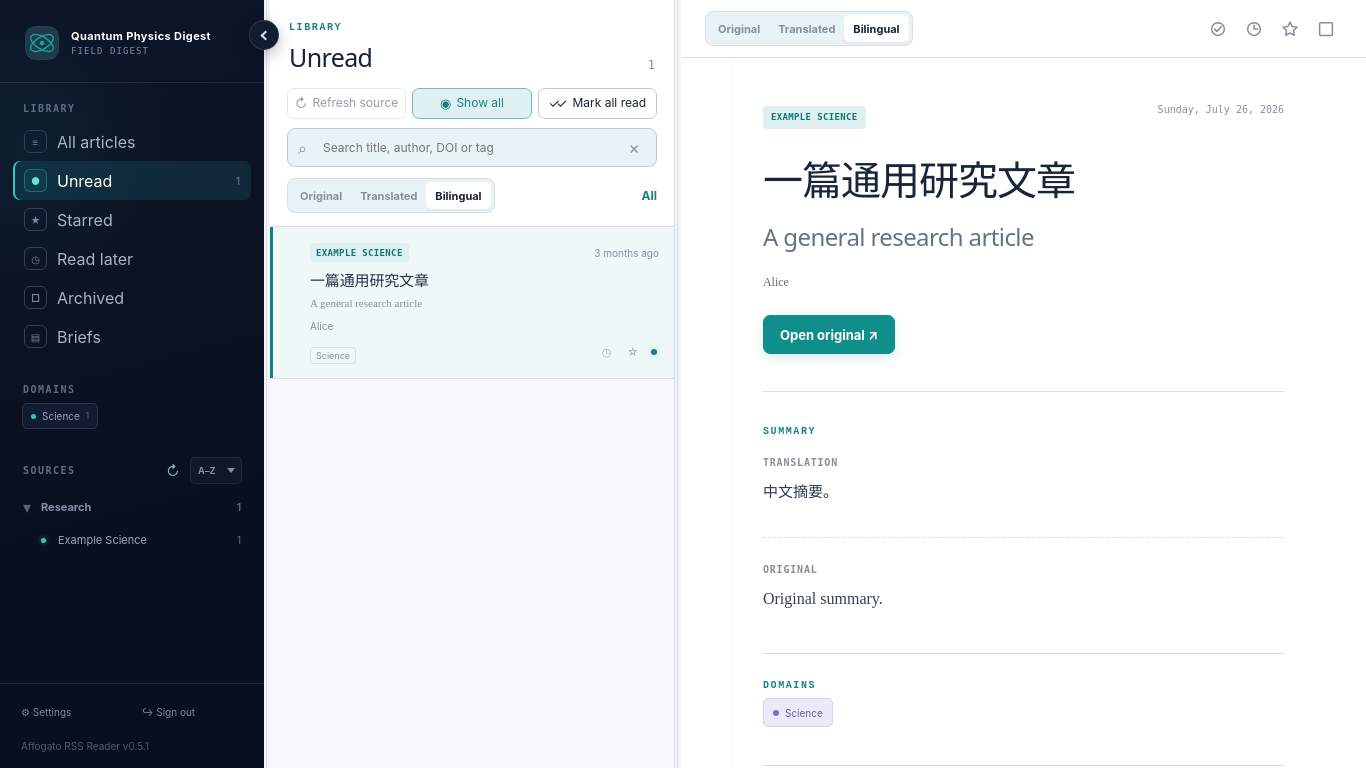
Affogato RSS Reader › refreshes the selected source, toggles unread mode, and marks the filtered timeline read
Expected: the button "↻ Refresh source" is disabled, [287,88,406,119]
Click the button "Example Science 1". click: (132, 540)
box: [13,523,251,557]
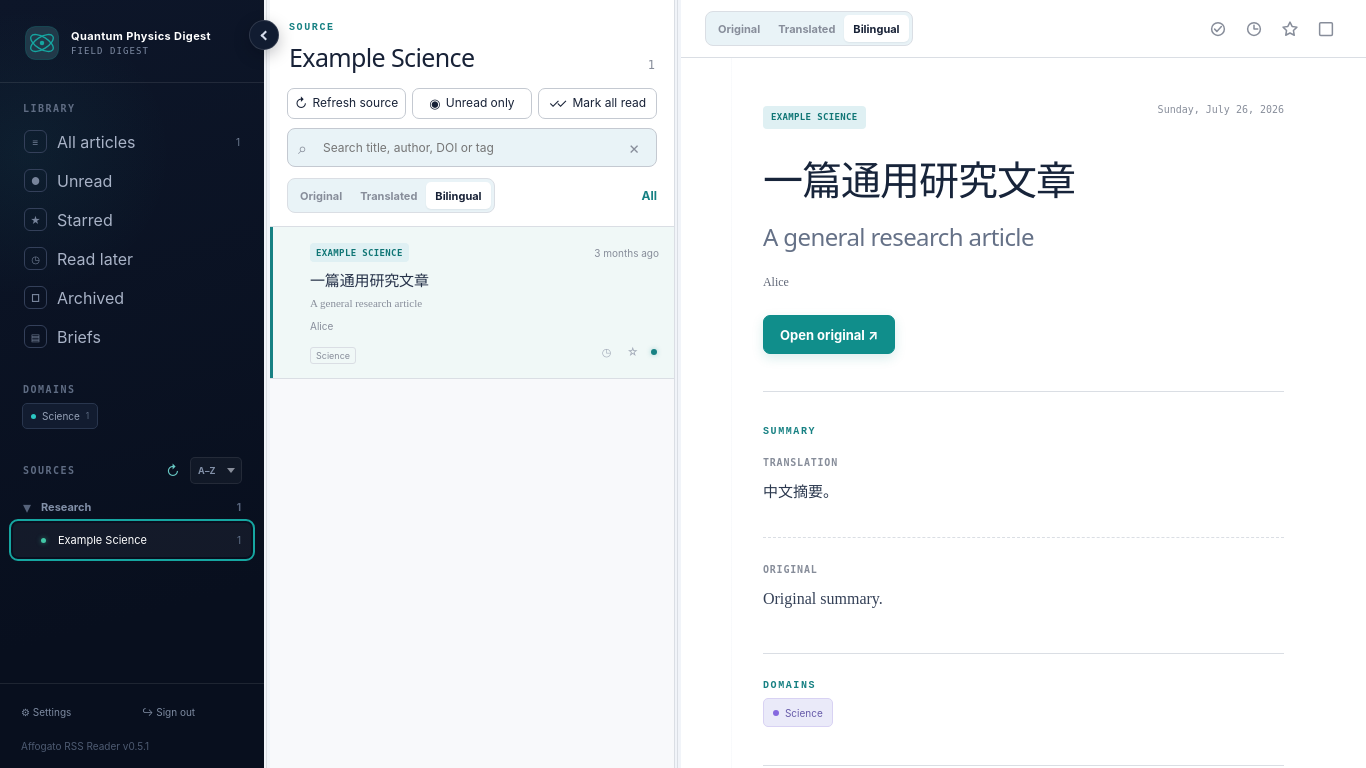
Now the button "↻ Refresh source" is enabled
Click the button "↻ Refresh source". click: (347, 104)
box: [287,88,406,119]
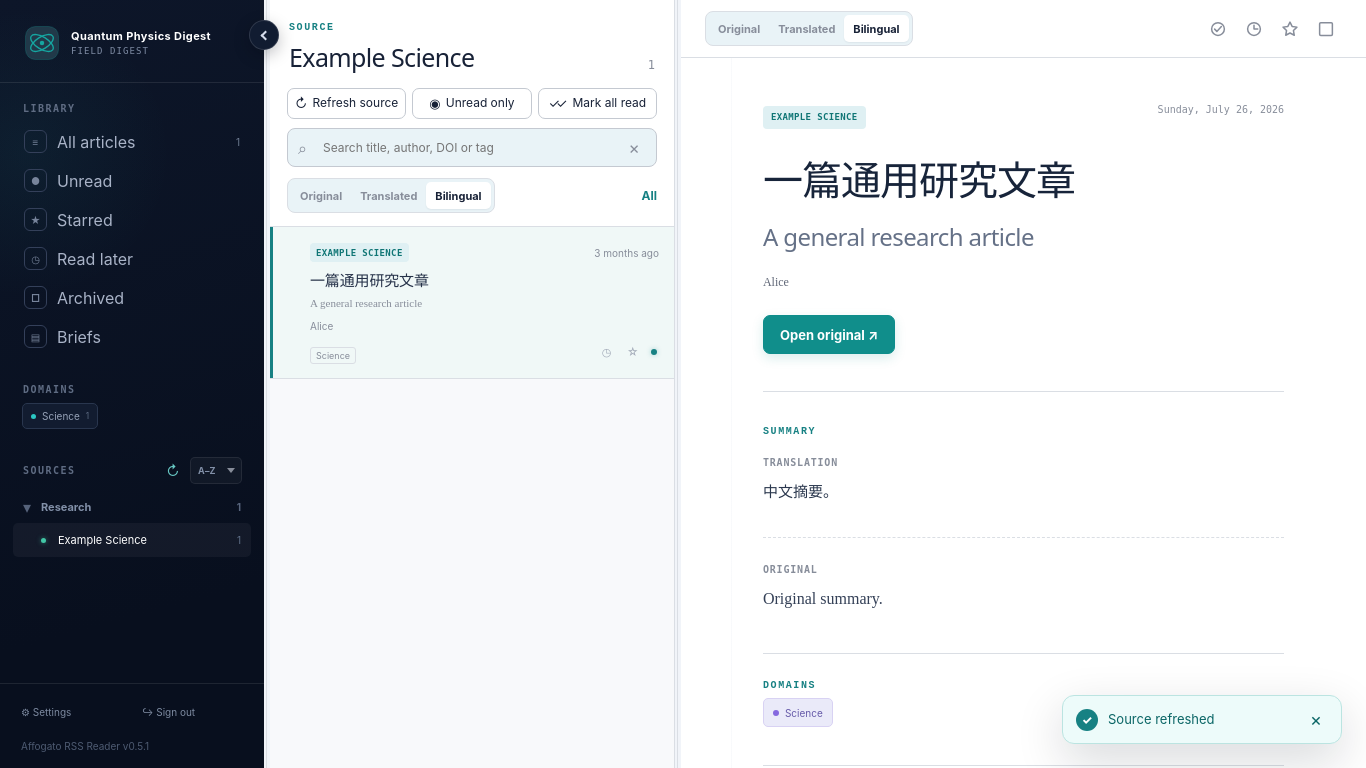
Click the button "◉ Unread only". click: (472, 104)
box: [412,88,532,119]
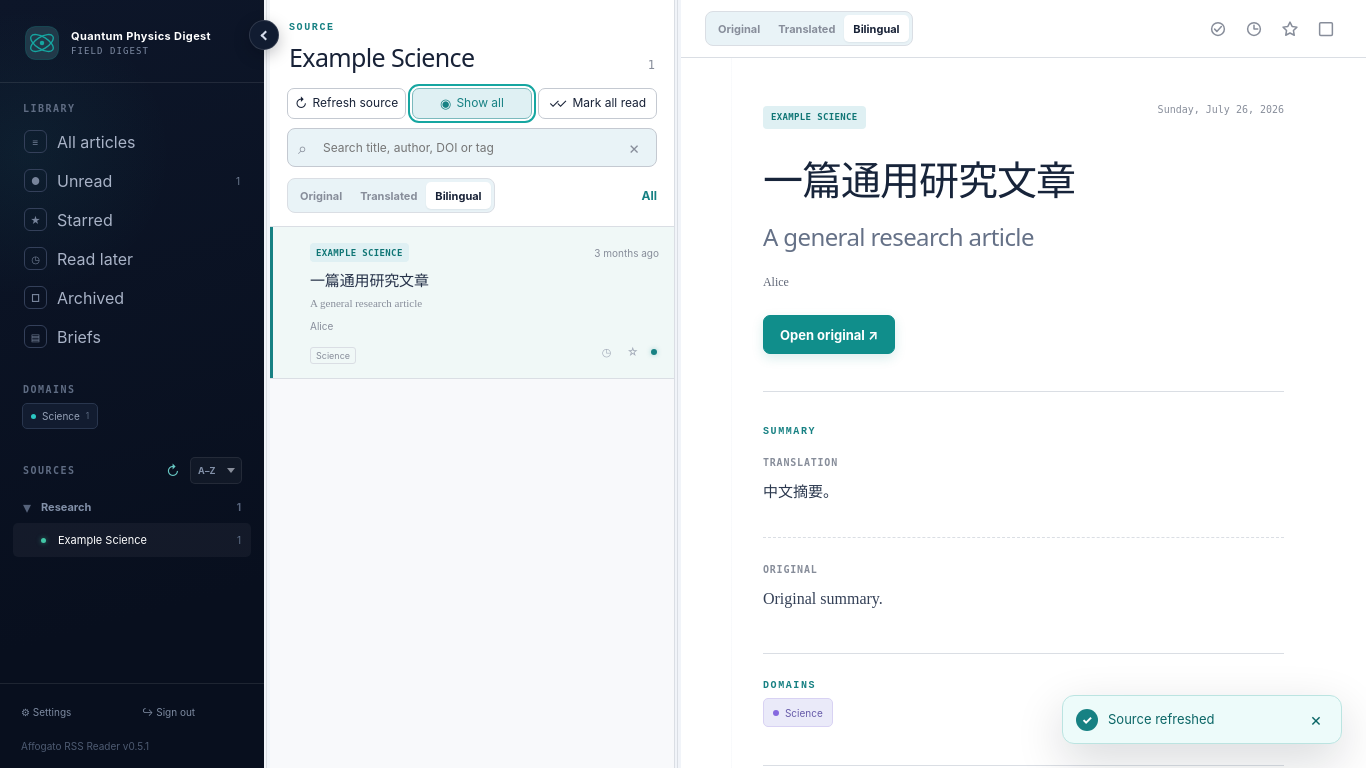
Click the button "✓✓ Mark all read". click: (597, 104)
box: [538,88,657,119]
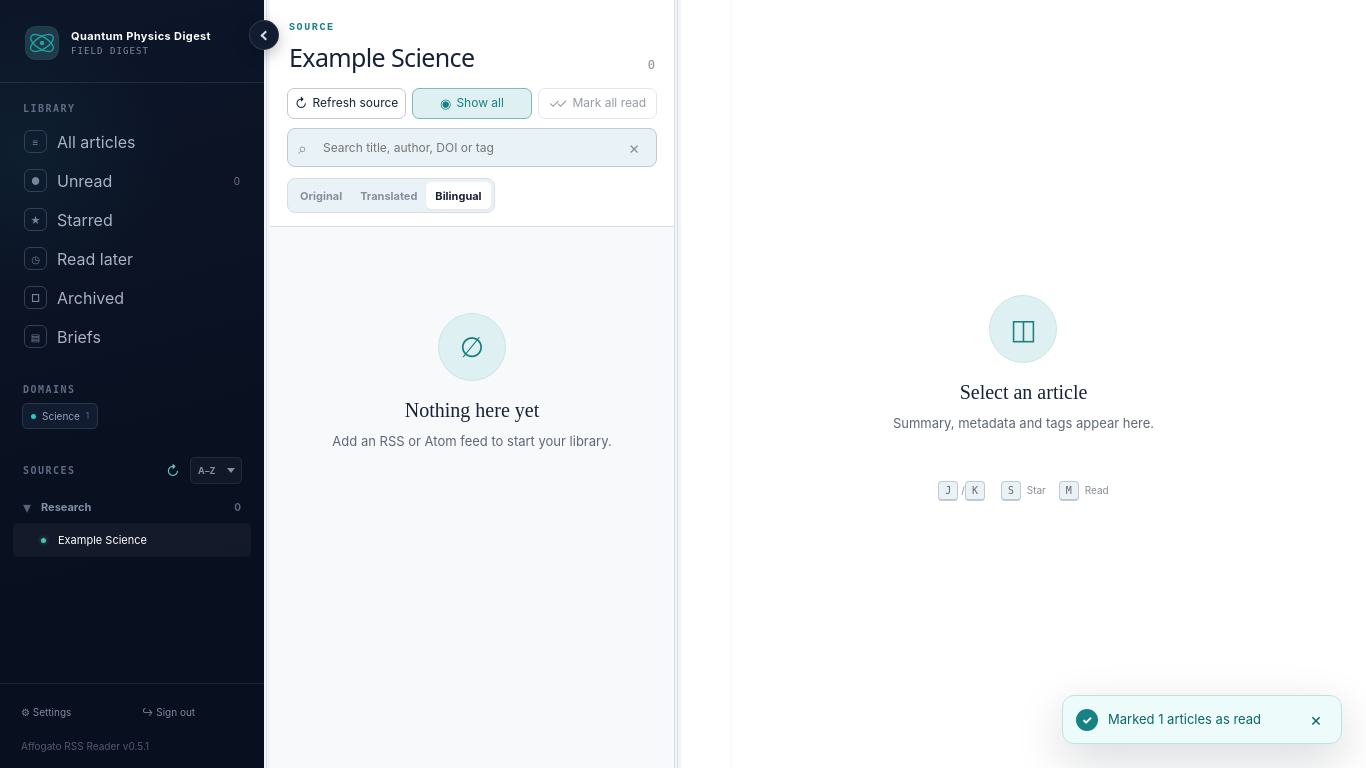
Now the button "● Unread 0" is shown, box [13,161,251,200]
